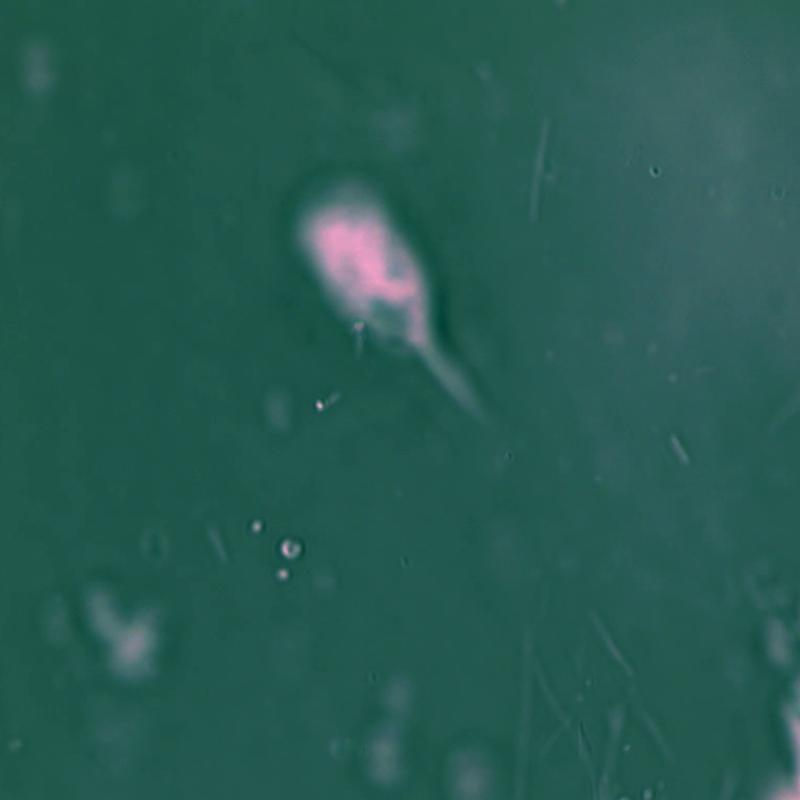depth:100: (273, 143, 528, 442)
